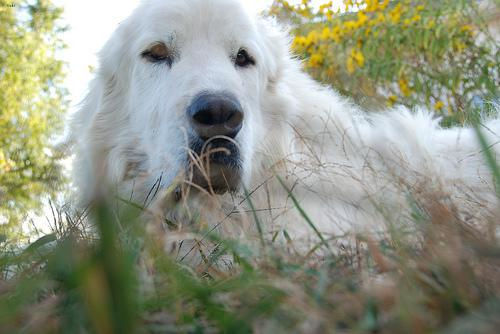dog-great_pyrenees: (97, 0, 298, 200)
